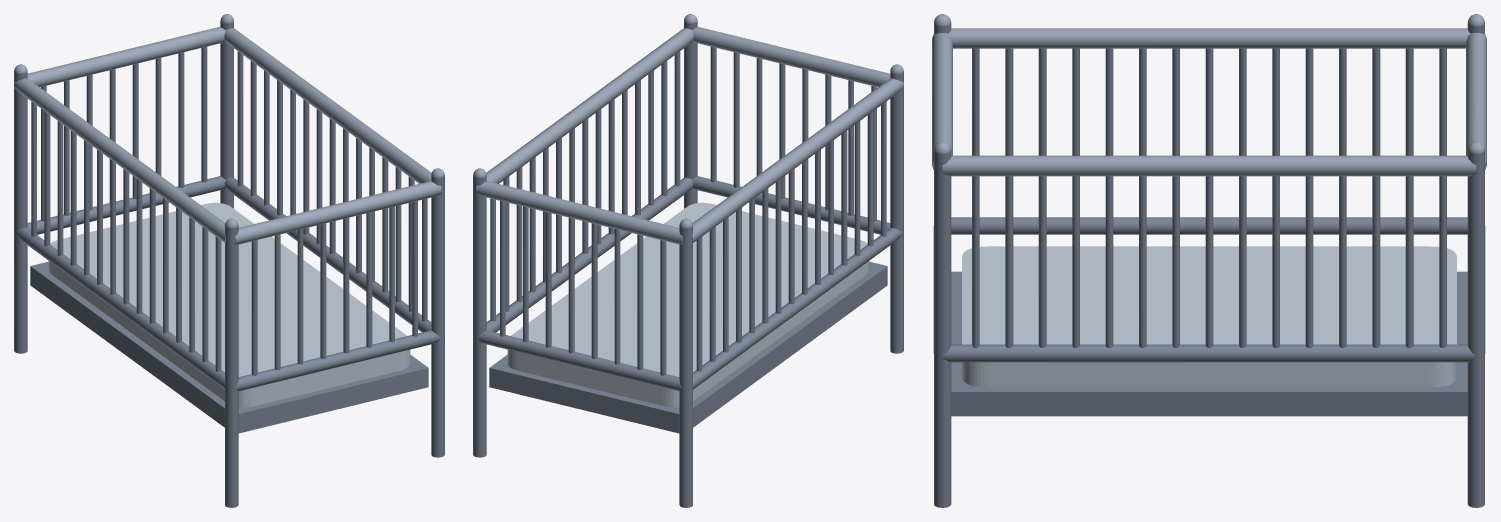
Rendered from baby-crib-lite.glb.
3 renders of one model, left to right at view 1: azimuth 30°, elevation 25°; view 2: azimuth 150°, elevation 25°; view 3: azimuth 270°, elevation 25°, orthographic. The views are drawn at different scales.
Parts seen in each view (by area): view 1: baby-crib-frame, baby-crib-light, baby-crib-accent; view 2: baby-crib-frame, baby-crib-light, baby-crib-accent; view 3: baby-crib-frame, baby-crib-light, baby-crib-accent.
Part boxes in pixels (<box>): baby-crib-frame: <box>14,21,444,507</box>; baby-crib-light: <box>48,202,410,407</box>; baby-crib-accent: <box>14,14,444,244</box>; baby-crib-frame: <box>473,21,903,507</box>; baby-crib-light: <box>507,202,869,407</box>; baby-crib-accent: <box>473,14,903,244</box>; baby-crib-frame: <box>933,23,1485,507</box>; baby-crib-light: <box>962,246,1456,387</box>; baby-crib-accent: <box>932,14,1486,176</box>.
Bounding box in the file's own units: 0.8314 × 1.03 × 1.43.
